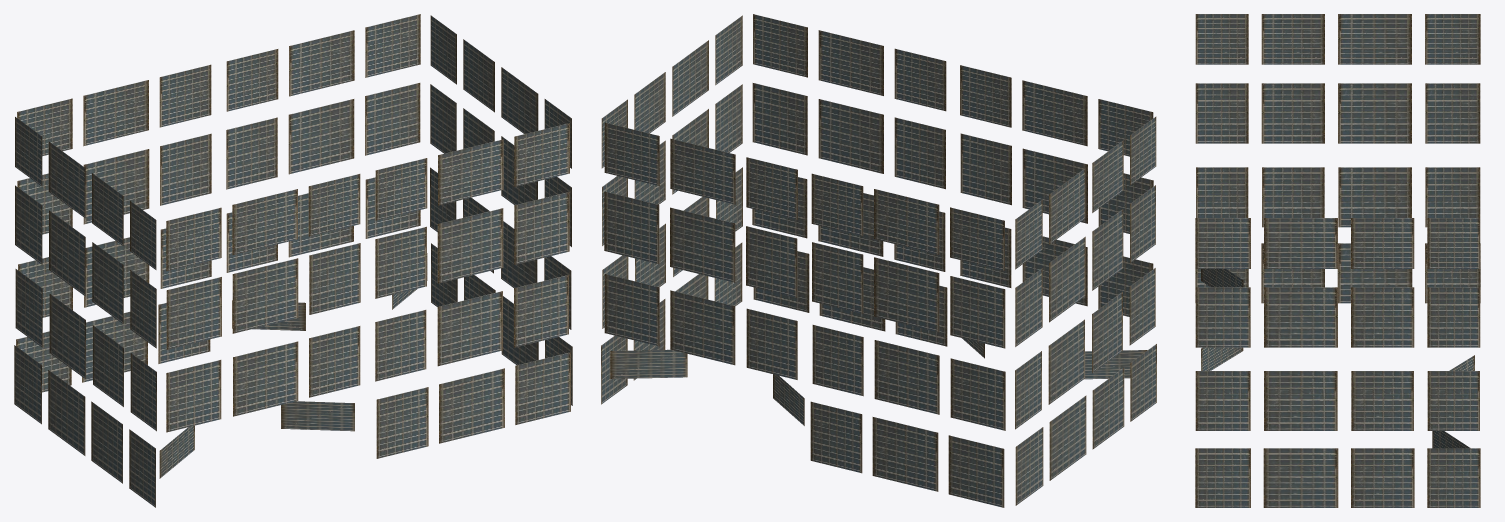
Rendered from window.obj.
3 views of the same model, side by side, from view 1: azimuth 30°, elevation 25°; view 2: azimuth 150°, elevation 25°; view 3: azimuth 270°, elevation 25° (orthographic).
Parts seen in each view (by area): view 1: building2_okna_Cube.109; view 2: building2_okna_Cube.109; view 3: building2_okna_Cube.109.
Boxes of the visible parts, left/top/right/bottom form: building2_okna_Cube.109: left=14, top=14, right=572, bottom=507; building2_okna_Cube.109: left=601, top=14, right=1156, bottom=507; building2_okna_Cube.109: left=1195, top=14, right=1480, bottom=507.
Bounding box in the file's own units: 15.8 × 10.42 × 9.96.
